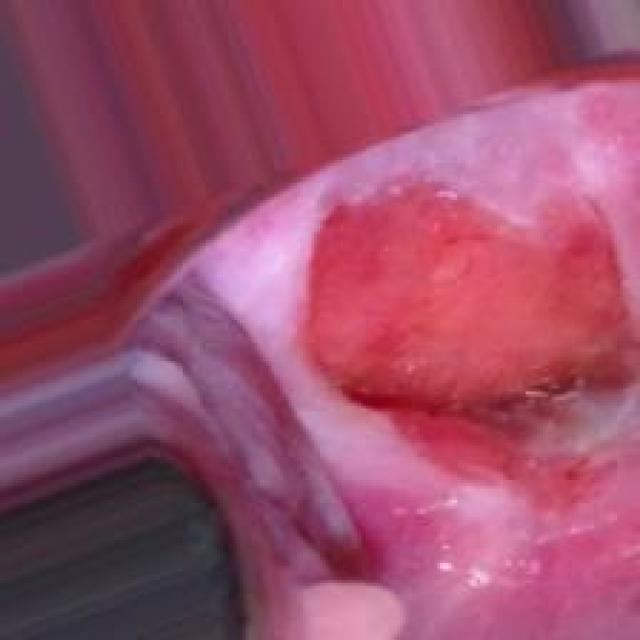type-1: (134, 108, 639, 640)
